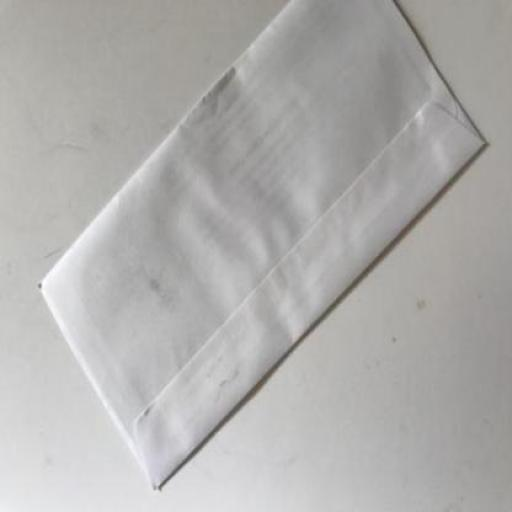paper: (37, 2, 484, 492)
